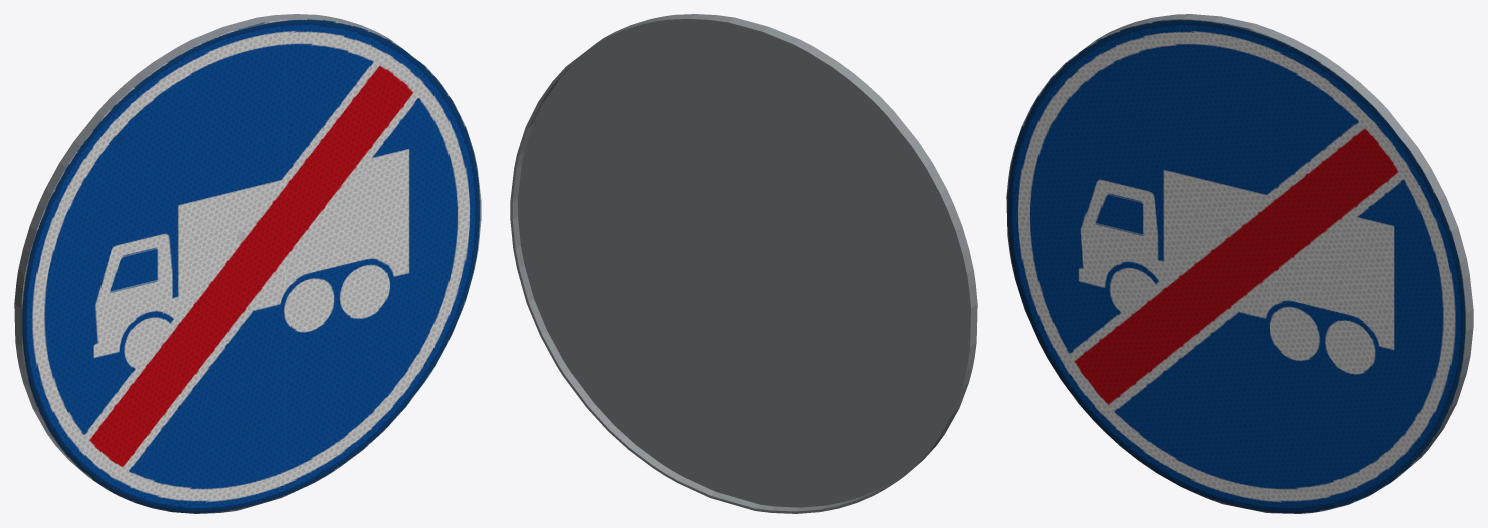
3 renders of one model, left to right at view 1: azimuth 30°, elevation 25°; view 2: azimuth 150°, elevation 25°; view 3: azimuth 330°, elevation 25°, orthographic.
Parts seen in each view (by area): view 1: cat_96b37f9d1f185f62; view 2: cat_96b37f9d1f185f62; view 3: cat_96b37f9d1f185f62.
Part boxes in pixels (left/top/right/bottom): cat_96b37f9d1f185f62: left=14, top=14, right=481, bottom=513; cat_96b37f9d1f185f62: left=510, top=14, right=977, bottom=513; cat_96b37f9d1f185f62: left=1006, top=14, right=1473, bottom=513.
Size of the model in its own units: 0.6 by 0.015 by 0.6.
2 materials, 1 textured.
